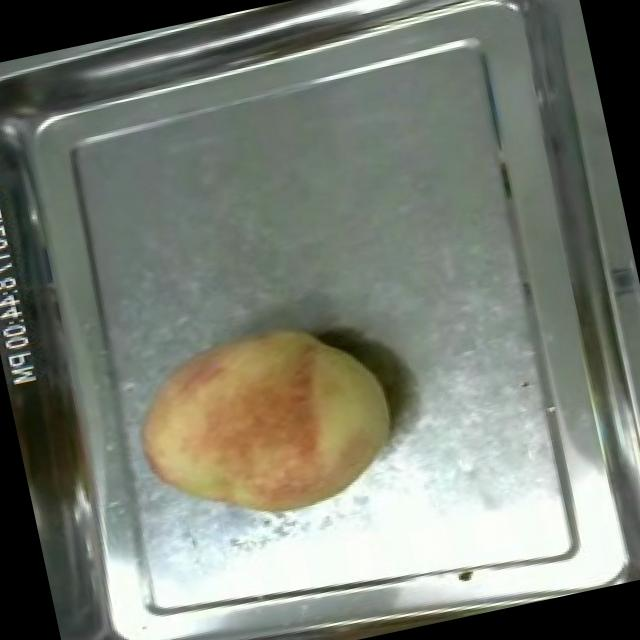Fruit: (116, 295, 413, 549)
